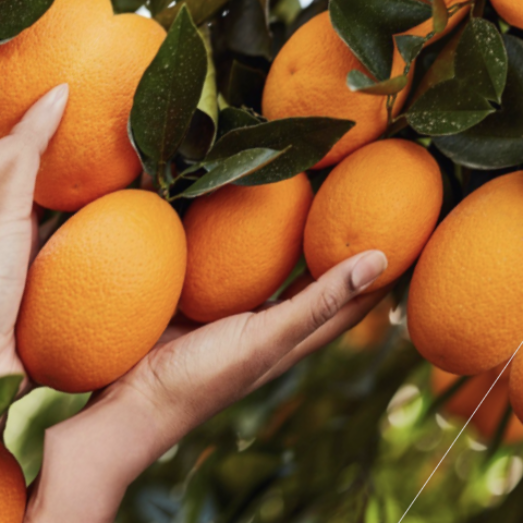orange: (0, 144, 238, 427), (266, 90, 489, 330), (352, 113, 523, 401)
